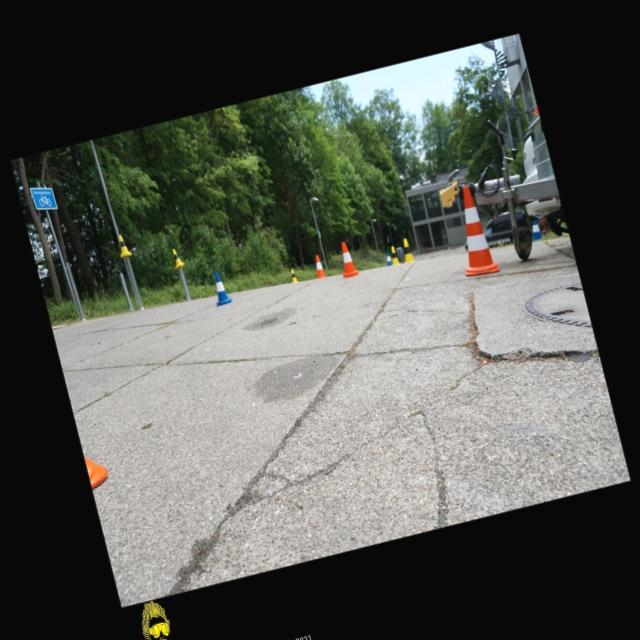blue_cone: (208, 270, 233, 306), (527, 217, 542, 240), (384, 250, 392, 264)
large_orange_cone: (444, 183, 500, 278)
orange_cone: (334, 239, 360, 278), (311, 254, 326, 278)
yellow_cone: (115, 232, 131, 257), (399, 236, 414, 262), (170, 246, 184, 269), (388, 244, 399, 264), (288, 267, 297, 282)
